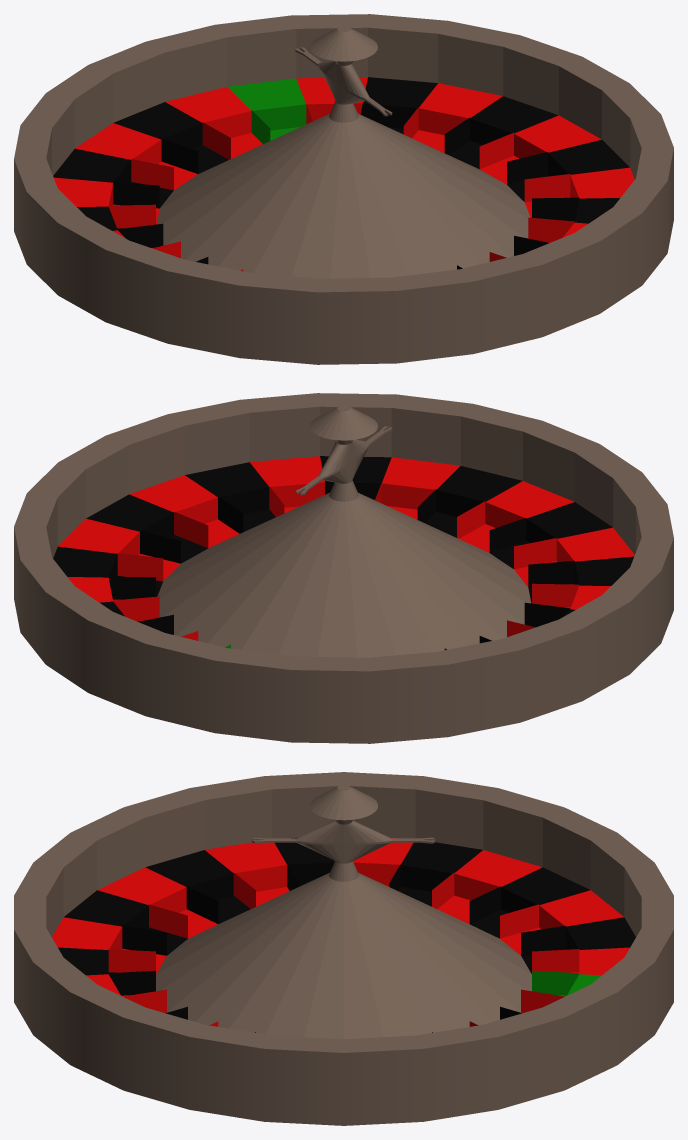
Rendered from Roulette Wheel.fbx.
3 renders of one model, top to bottom at view 1: azimuth 30°, elevation 25°; view 2: azimuth 150°, elevation 25°; view 3: azimuth 270°, elevation 25°, orthographic.
Visible parts, largest first — view 1: Roulette_Wheel; view 2: Roulette_Wheel; view 3: Roulette_Wheel.
Part boxes in pixels (x1,y1,x2,y2): Roulette_Wheel: (14,14,673,364); Roulette_Wheel: (14,393,673,743); Roulette_Wheel: (14,772,673,1125).
Bounding box in the file's own units: 11.98 × 3.93 × 11.89.
